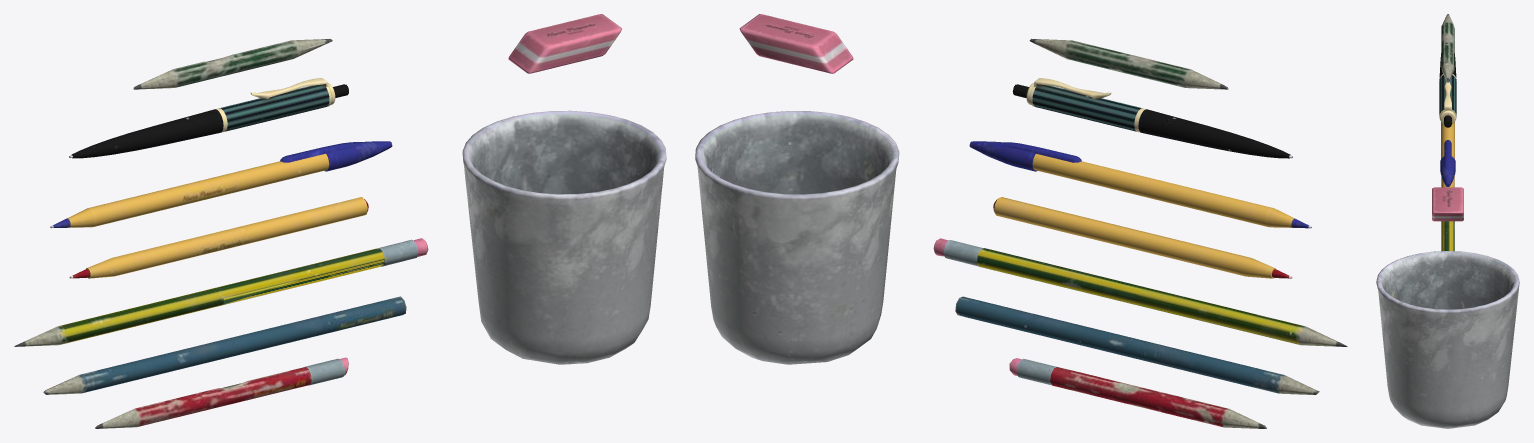
The model's file is stationery_supplies.gltf.
3 renders of one model, left to right at view 1: azimuth 30°, elevation 25°; view 2: azimuth 150°, elevation 25°; view 3: azimuth 270°, elevation 25°, orthographic. The views are drawn at different scales.
Visible parts, largest first — view 1: stationery_supplies_pencilcup, stationery_supplies_pencil_new_a, stationery_supplies_pencil_new_b, stationery_supplies_pen_blue, stationery_supplies_pen_fancy, stationery_supplies_pen_red, stationery_supplies_pencil_used, stationery_supplies_eraser, stationery_supplies_pencil_old; view 2: stationery_supplies_pencilcup, stationery_supplies_pencil_new_a, stationery_supplies_pencil_new_b, stationery_supplies_pen_blue, stationery_supplies_pen_fancy, stationery_supplies_pen_red, stationery_supplies_pencil_used, stationery_supplies_eraser, stationery_supplies_pencil_old; view 3: stationery_supplies_pencilcup, stationery_supplies_eraser, stationery_supplies_pen_fancy, stationery_supplies_pen_blue, stationery_supplies_pencil_old, stationery_supplies_pencil_new_a.
Part boxes in pixels (box(x1,y1,x2,y2)): stationery_supplies_pencilcup: box(462, 110, 666, 364); stationery_supplies_pencil_new_a: box(14, 238, 428, 346); stationery_supplies_pencil_new_b: box(43, 296, 406, 394); stationery_supplies_pen_blue: box(50, 141, 392, 228); stationery_supplies_pen_fancy: box(69, 78, 348, 158); stationery_supplies_pen_red: box(69, 197, 368, 278); stationery_supplies_pencil_used: box(95, 357, 348, 428); stationery_supplies_eraser: box(508, 14, 621, 73); stationery_supplies_pencil_old: box(133, 39, 332, 89); stationery_supplies_pencilcup: box(695, 111, 899, 364); stationery_supplies_pencil_new_a: box(933, 238, 1347, 346); stationery_supplies_pencil_new_b: box(955, 296, 1319, 394); stationery_supplies_pen_blue: box(969, 141, 1311, 228); stationery_supplies_pen_fancy: box(1012, 78, 1292, 158); stationery_supplies_pen_red: box(993, 197, 1292, 278); stationery_supplies_pencil_used: box(1009, 358, 1266, 428); stationery_supplies_eraser: box(739, 14, 853, 73); stationery_supplies_pencil_old: box(1029, 38, 1228, 89); stationery_supplies_pencilcup: box(1376, 251, 1519, 428); stationery_supplies_eraser: box(1432, 187, 1463, 221); stationery_supplies_pen_fancy: box(1439, 53, 1456, 127); stationery_supplies_pen_blue: box(1440, 122, 1455, 186); stationery_supplies_pencil_old: box(1441, 14, 1454, 82); stationery_supplies_pencil_new_a: box(1441, 221, 1454, 251).
Size of the model in its own units: 0.3019 by 0.1643 by 0.0837.
1 material, 1 textured.
